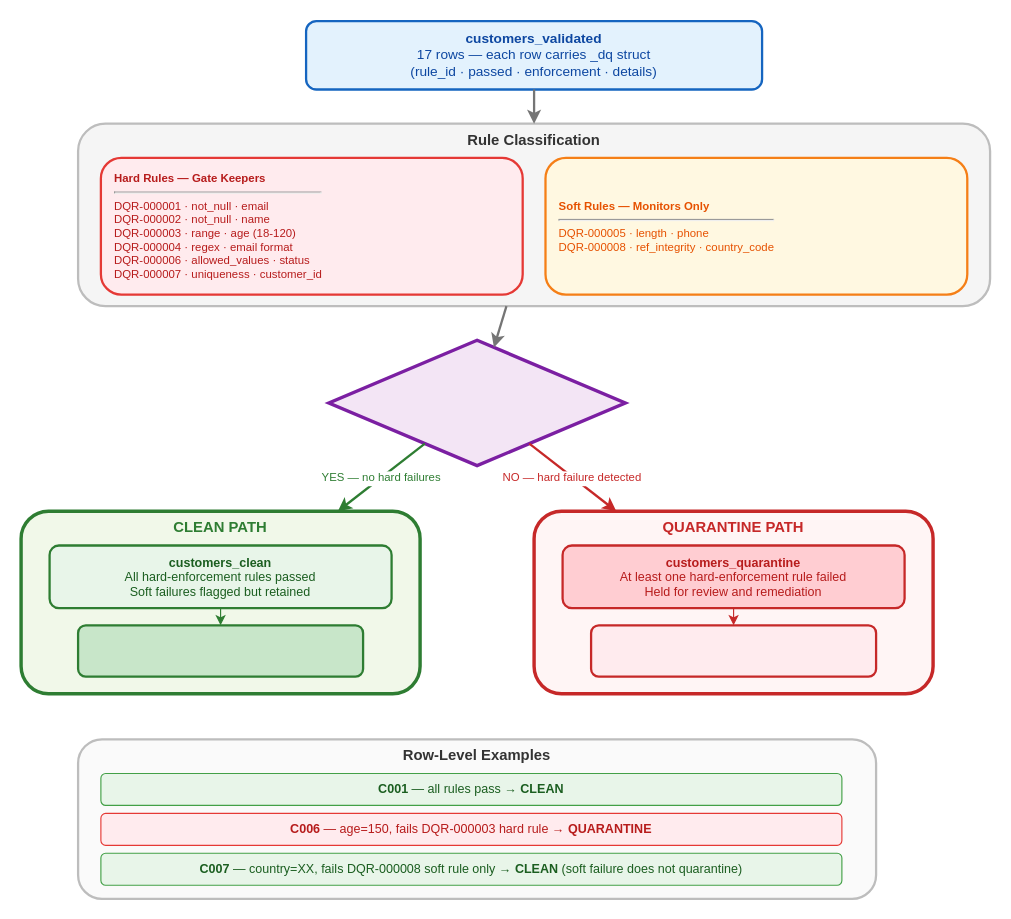
This 1011x919 diagram has some shape labels left out. The centre of each missing label's shape, as x and y in pixels:
"ALL hard rules pass? (_dq.enforcement = 'hard' AND _dq.passed = false)" goes at (x=476, y=402).
"gold_customer_360 Production gold layer" goes at (x=220, y=650).
"Quarantine Zone Dashboard DQ Ops monitoring and triage" goes at (x=733, y=650).
